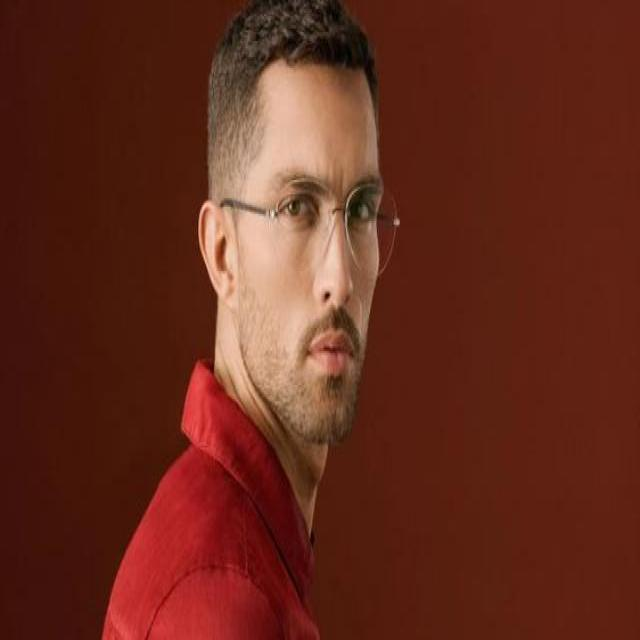glasses: (255, 177, 400, 279)
